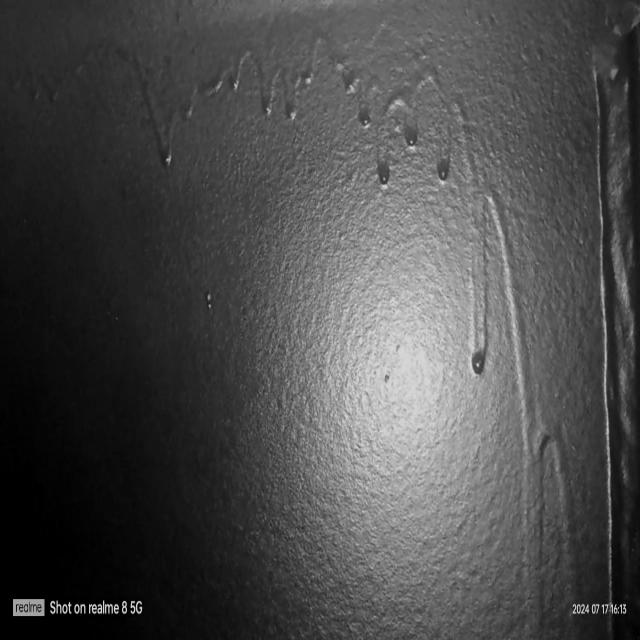paint drips: (5, 25, 462, 197), (462, 109, 586, 640)
